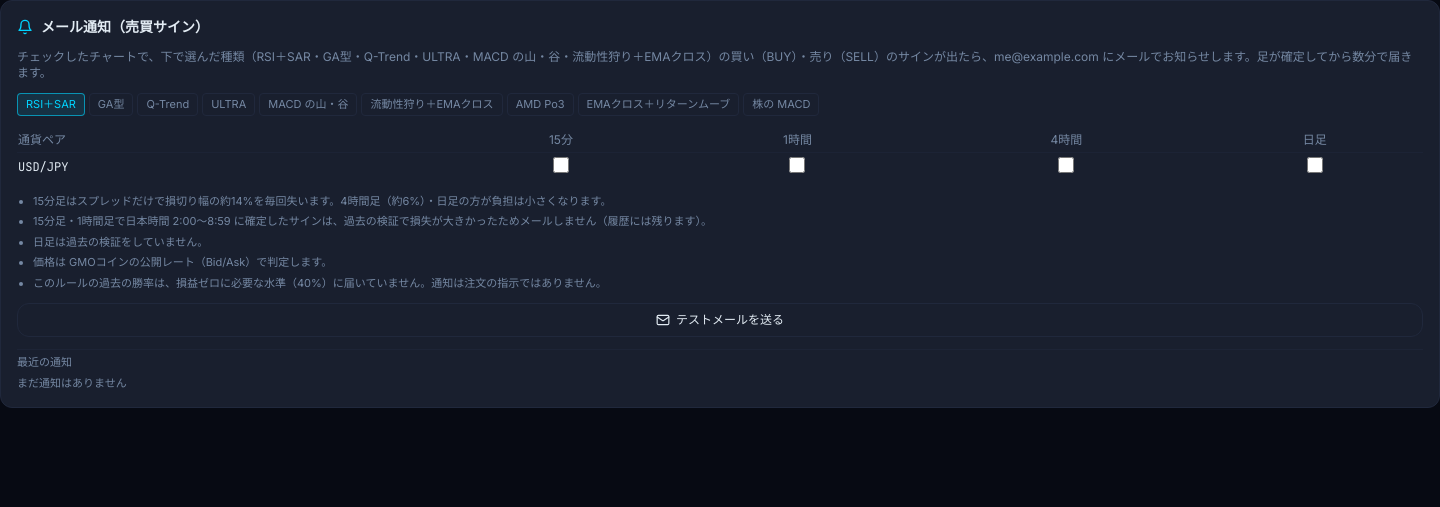
Test: #391 the MACD email on shares in the settings › from a server that does not send its charts: says it is not available yet
What coordinates should you click on to do the following:
click the tab with test id "signal-alerts-rule-stockmacd"
I would click on:
 (781, 104)
Its box is [743,93,820,116].
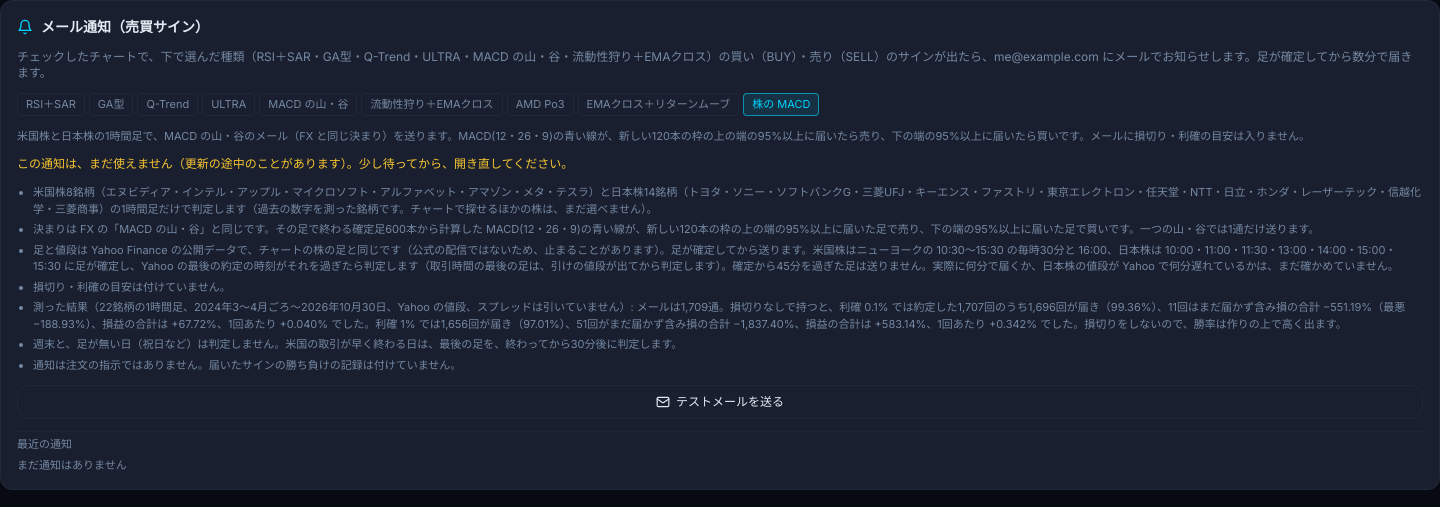
Expected: the text "この通知は、まだ使えません（更新の途中のことがあります）。少し待ってから、開き直してください。" is shown, [17,156,573,171]
